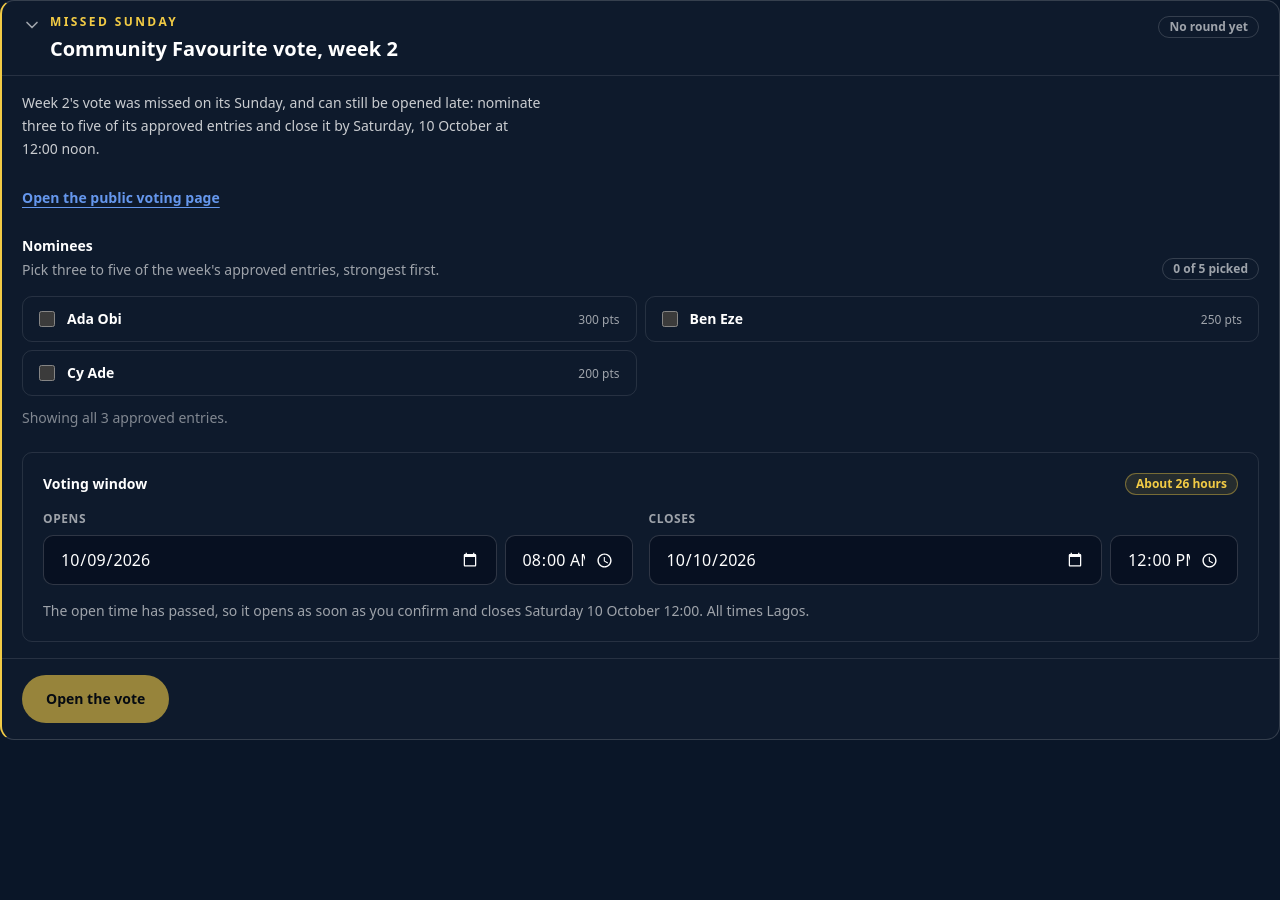
a vote opened late, the Monday after › starts with the deadline itself when two days would run past it
The image size is (1280, 900).
Click the checkbox labelled "Ada Obi 300 pts". click: (47, 319)
box: [39, 311, 55, 327]
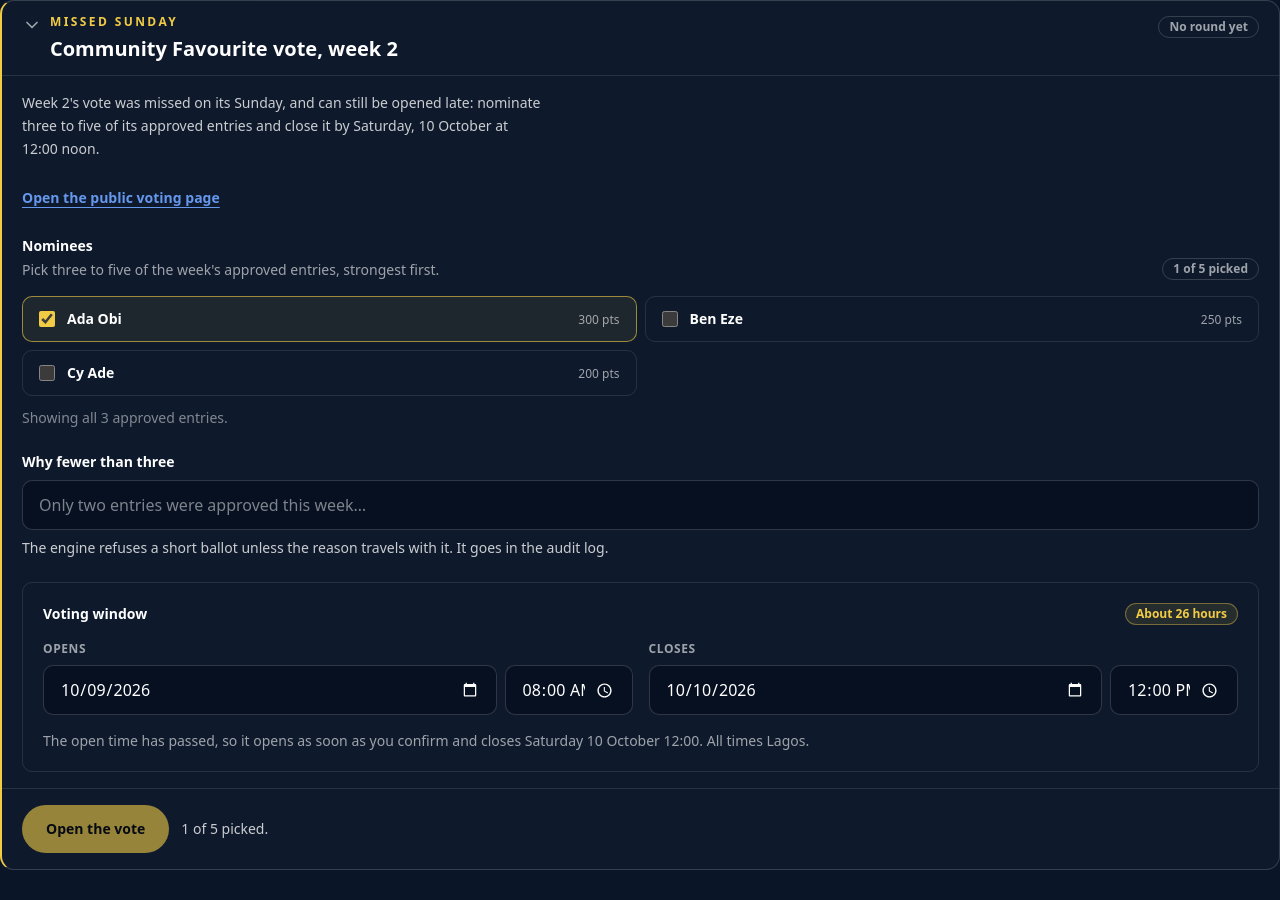
Click the checkbox labelled "Ben Eze 250 pts". click: (670, 319)
box: [662, 311, 678, 327]
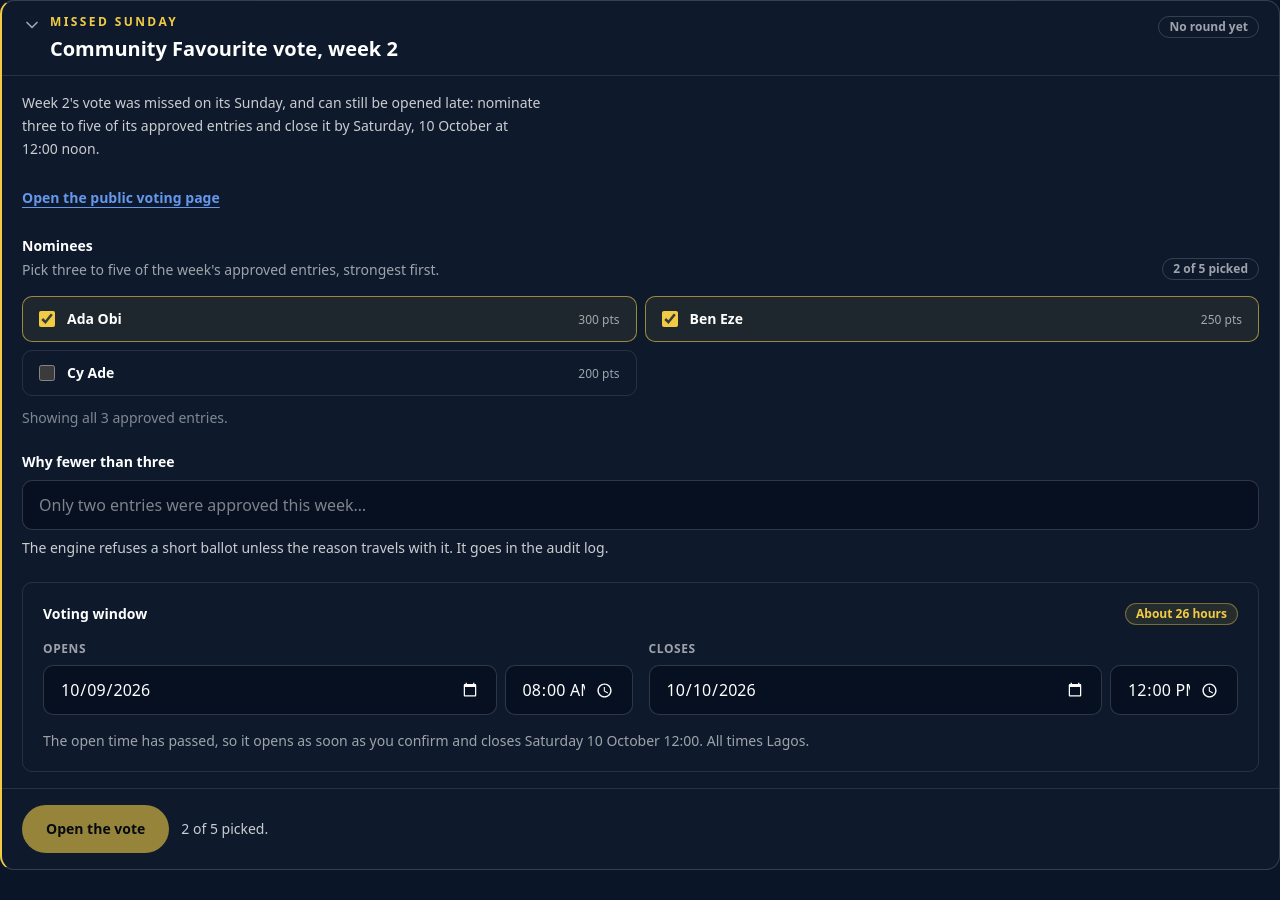
Click the checkbox labelled "Cy Ade 200 pts". click: (47, 373)
box: [39, 365, 55, 381]
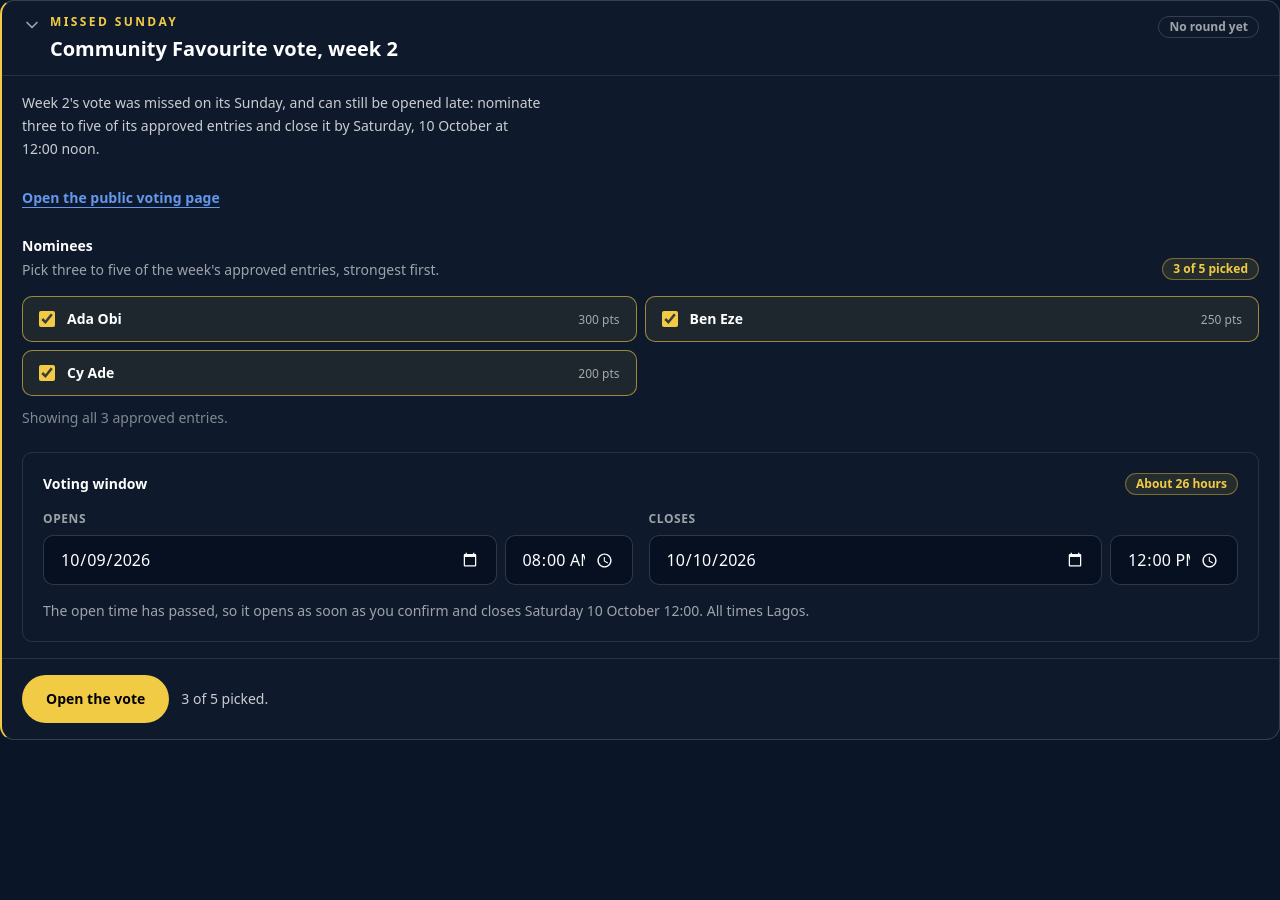
Expected: the date field with id "closes-day" holds "2026-10-10", [648, 535, 1102, 585]
Expected: the button "Open the vote" is enabled, [22, 675, 169, 723]
